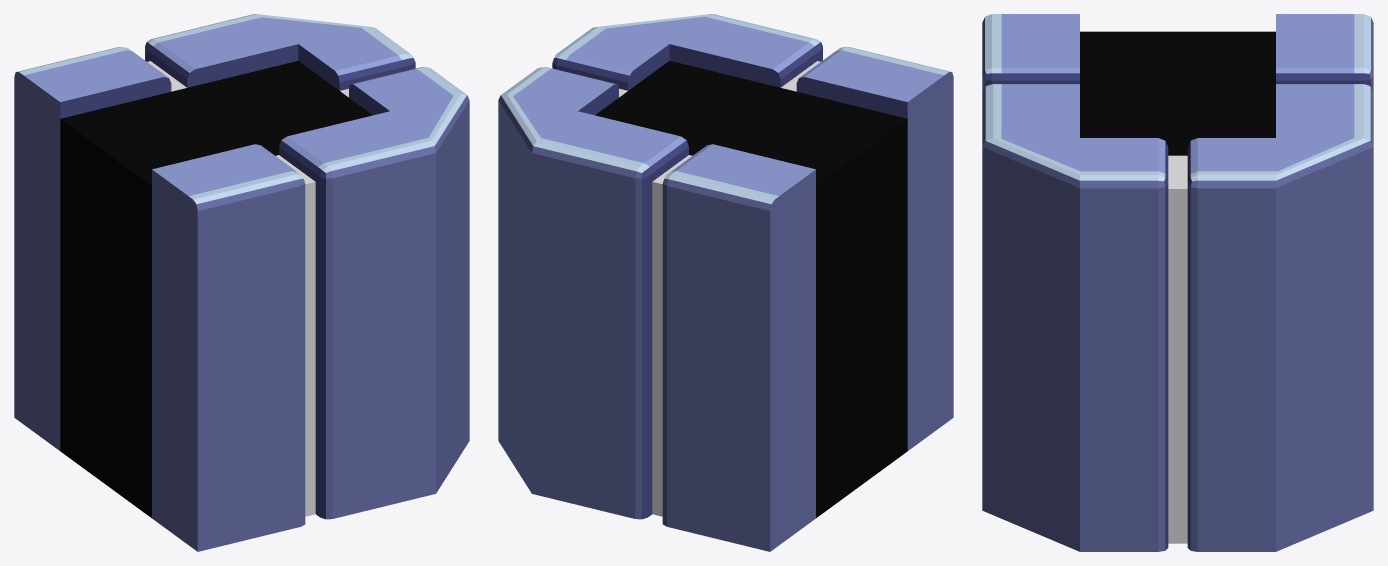
File: UFO_Wall_End.fbx
The picture shows the model from 3 angles, left to right: view 1: azimuth 30°, elevation 25°; view 2: azimuth 150°, elevation 25°; view 3: azimuth 270°, elevation 25°; orthographic projection. The views are drawn at different scales.
Parts seen in each view (by area): view 1: Cube.002; view 2: Cube.002; view 3: Cube.002.
Part boxes in pixels (left/top/right/bottom): Cube.002: left=14, top=14, right=469, bottom=551; Cube.002: left=498, top=14, right=953, bottom=551; Cube.002: left=982, top=14, right=1373, bottom=551.
Bounding box in the file's own units: 2 × 2.1 × 2.
